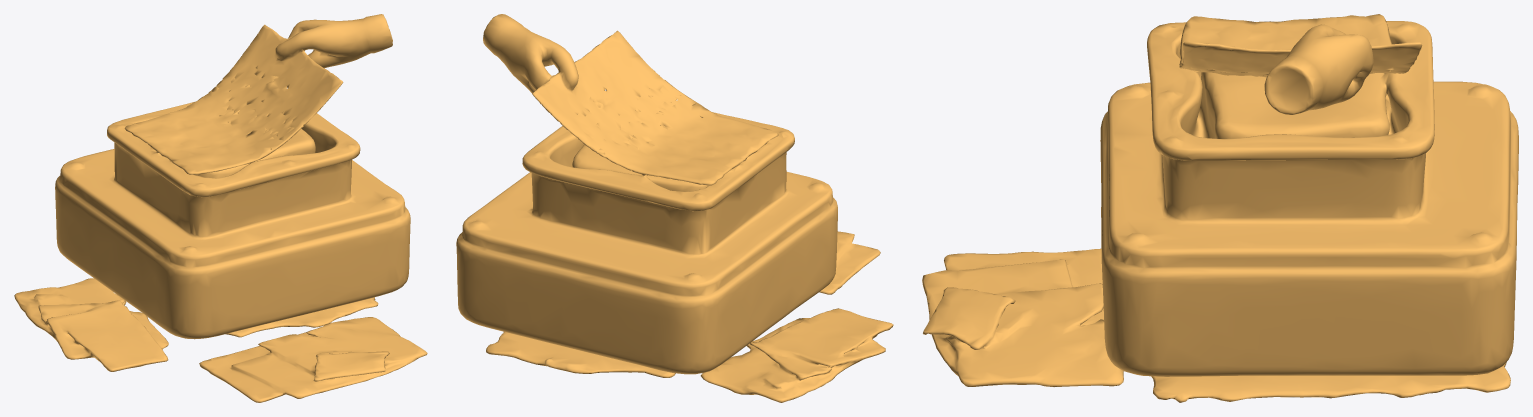
Rendered from fiberglass-layup.glb.
3 renders of one model, left to right at view 1: azimuth 30°, elevation 25°; view 2: azimuth 150°, elevation 25°; view 3: azimuth 270°, elevation 25°, orthographic. The views are drawn at different scales.
Parts seen in each view (by area): view 1: tmpyiheo_6y.ply; view 2: tmpyiheo_6y.ply; view 3: tmpyiheo_6y.ply.
Part boxes in pixels (x1,y1,x2,y2): tmpyiheo_6y.ply: (14,14,427,402); tmpyiheo_6y.ply: (456,14,893,402); tmpyiheo_6y.ply: (922,14,1518,402).
Bounding box in the file's own units: 1.96 × 1.34 × 1.95.
